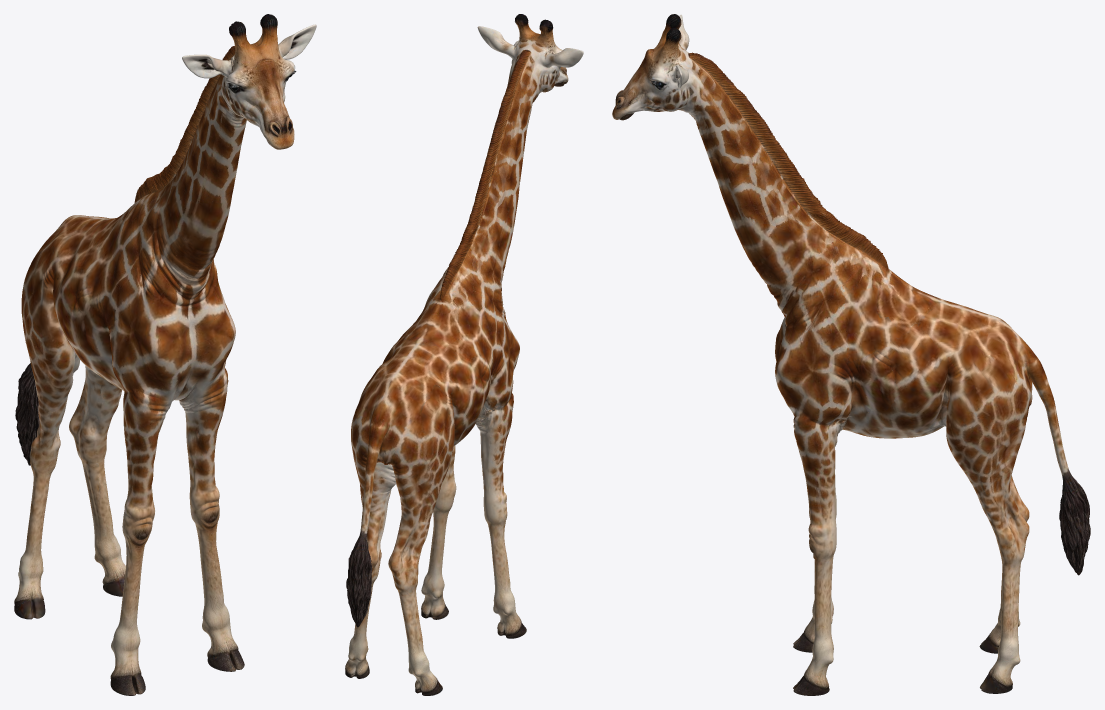
Rendered from wild-giraffe.glb.
3 renders of one model, left to right at view 1: azimuth 30°, elevation 25°; view 2: azimuth 150°, elevation 25°; view 3: azimuth 270°, elevation 25°, orthographic. The views are drawn at different scales.
Visible parts, largest first — view 1: giraffe; view 2: giraffe; view 3: giraffe.
Part boxes in pixels (x1,y1,x2,y2): giraffe: [14, 14, 316, 695]; giraffe: [345, 14, 583, 695]; giraffe: [612, 14, 1090, 695].
Size of the model in its own units: 1.03 by 5.2 by 3.48.
Materials: 1 (1 with a texture image).
